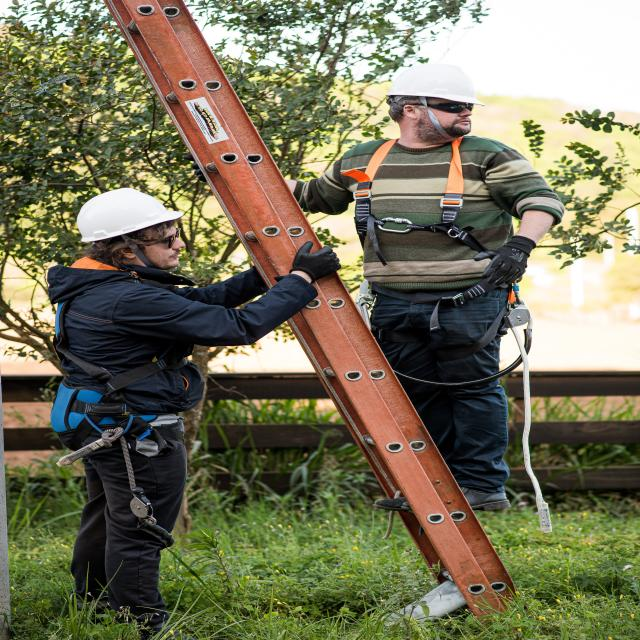capacete: (76, 186, 186, 245), (383, 63, 487, 105)
corda de vida: (339, 137, 534, 367)
luva: (469, 234, 540, 292), (288, 240, 342, 286)
